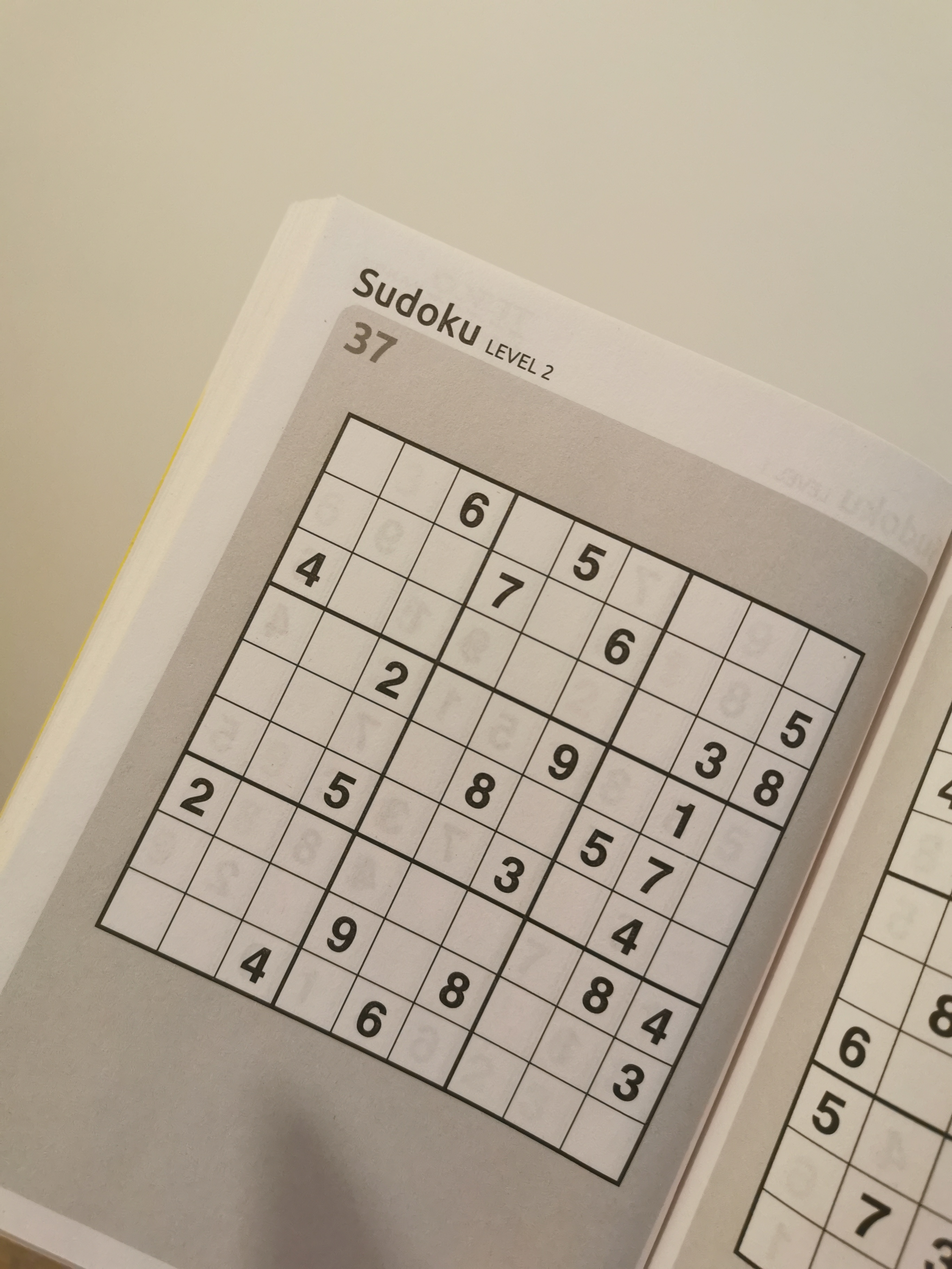sudoku: (70, 389, 873, 1202)
